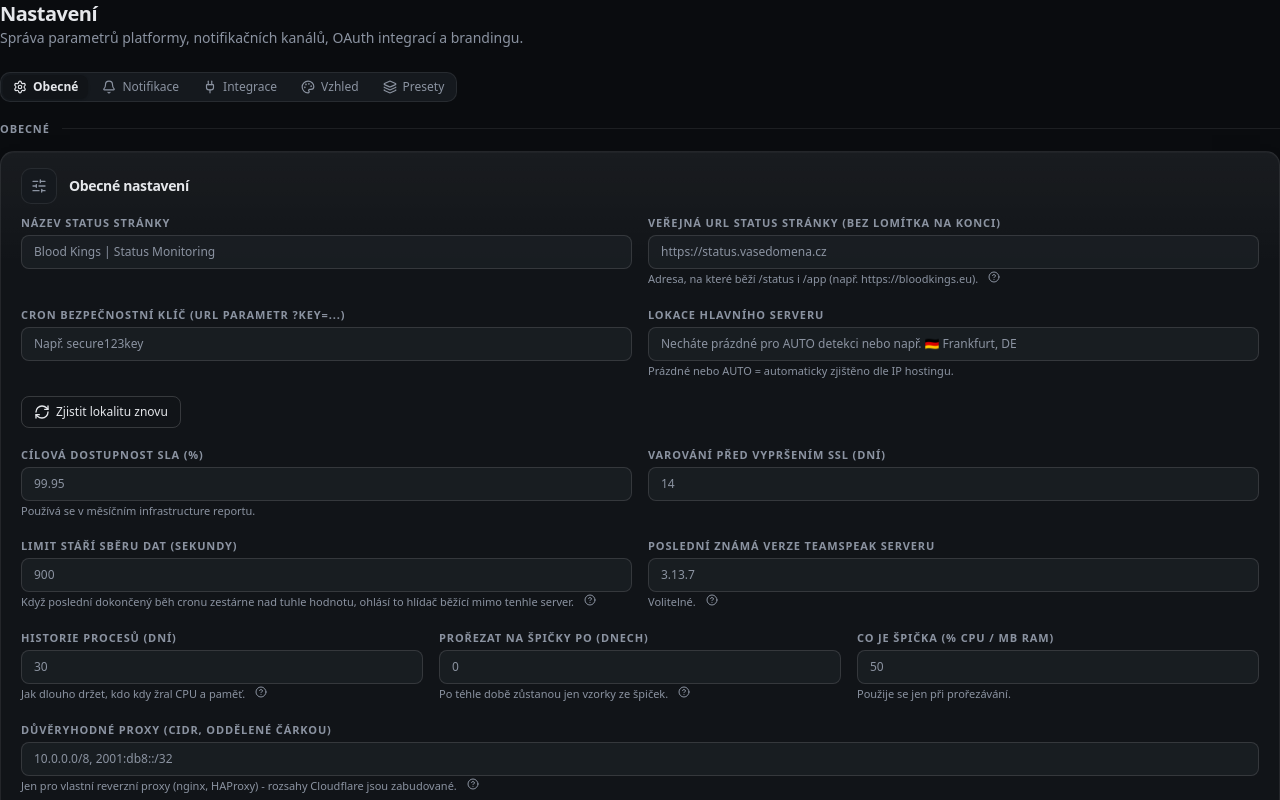
Nastavení: denní připomínka › nikdy neuložená připomínka se ukáže jako zapnutá, protože server ji posílá
Click the button "Notifikace" at (141, 87), box [92,75,189,99]
(page scrolled)
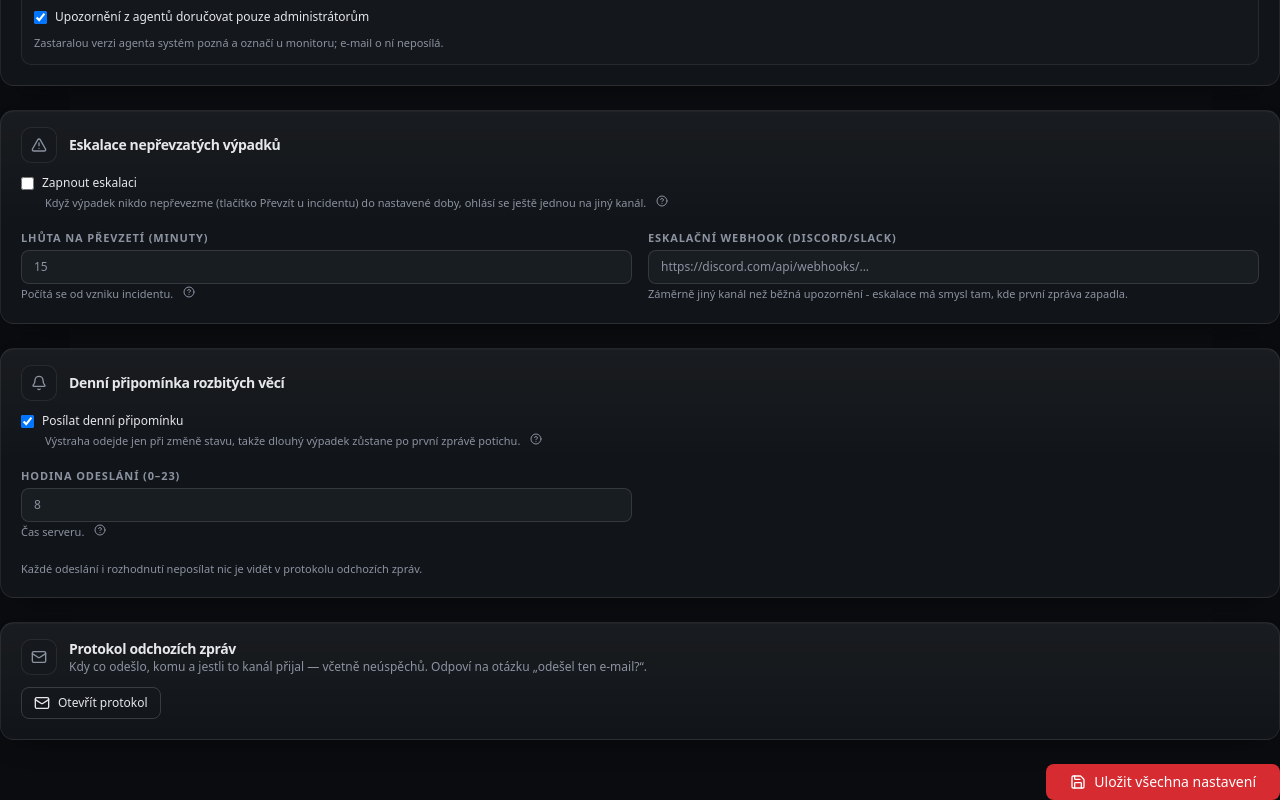
Check: the checkbox labelled "Posílat denní připomínku" is checked, box [21,415,34,428]
